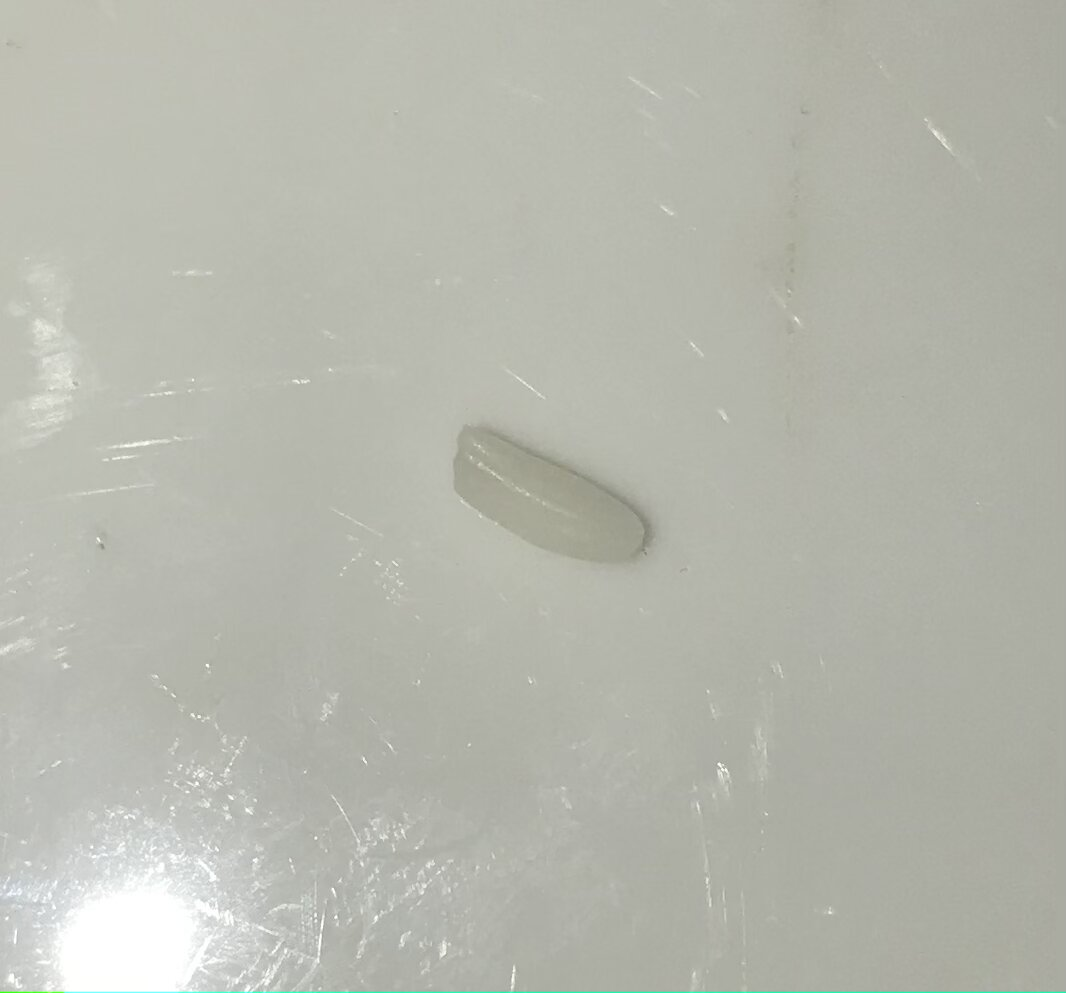Gao Lai Sua: (448, 415, 652, 580)
